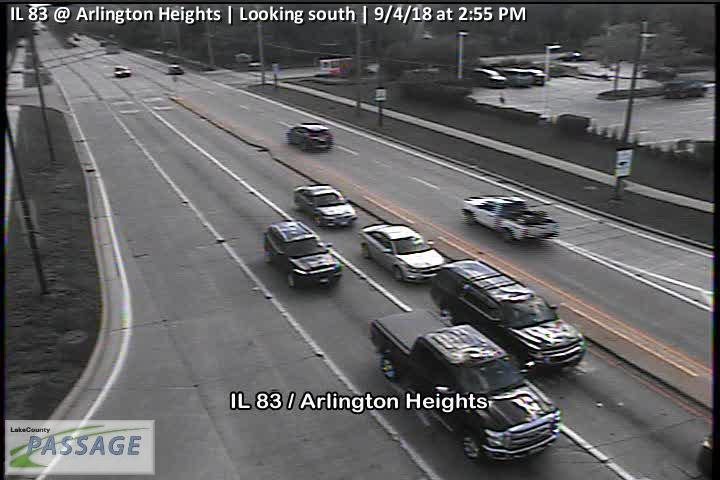SUV: (428, 258, 587, 372), (263, 221, 343, 291), (287, 123, 334, 153)
Sedan: (359, 224, 446, 284), (294, 183, 356, 229)
Truck: (369, 307, 561, 461), (462, 196, 558, 244)
